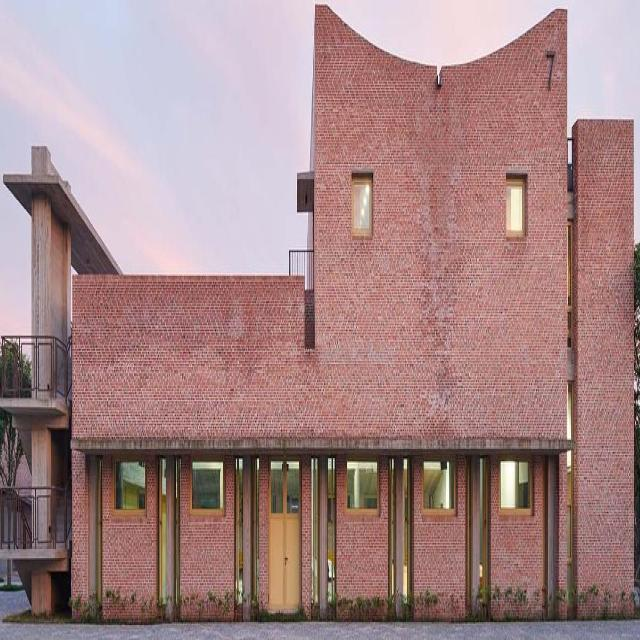door: (268, 510, 300, 617)
railing: (3, 334, 74, 409), (4, 472, 73, 548), (290, 248, 314, 290)
window: (422, 456, 458, 512), (345, 458, 380, 514), (499, 457, 533, 511), (190, 459, 226, 509), (113, 462, 147, 514), (566, 381, 573, 615), (269, 458, 301, 507), (312, 453, 320, 623), (158, 459, 166, 612), (328, 458, 336, 606), (354, 179, 374, 234), (507, 182, 526, 238), (235, 456, 242, 607), (568, 223, 575, 346), (404, 458, 409, 607), (255, 458, 260, 605), (480, 459, 483, 621), (391, 459, 394, 609)
